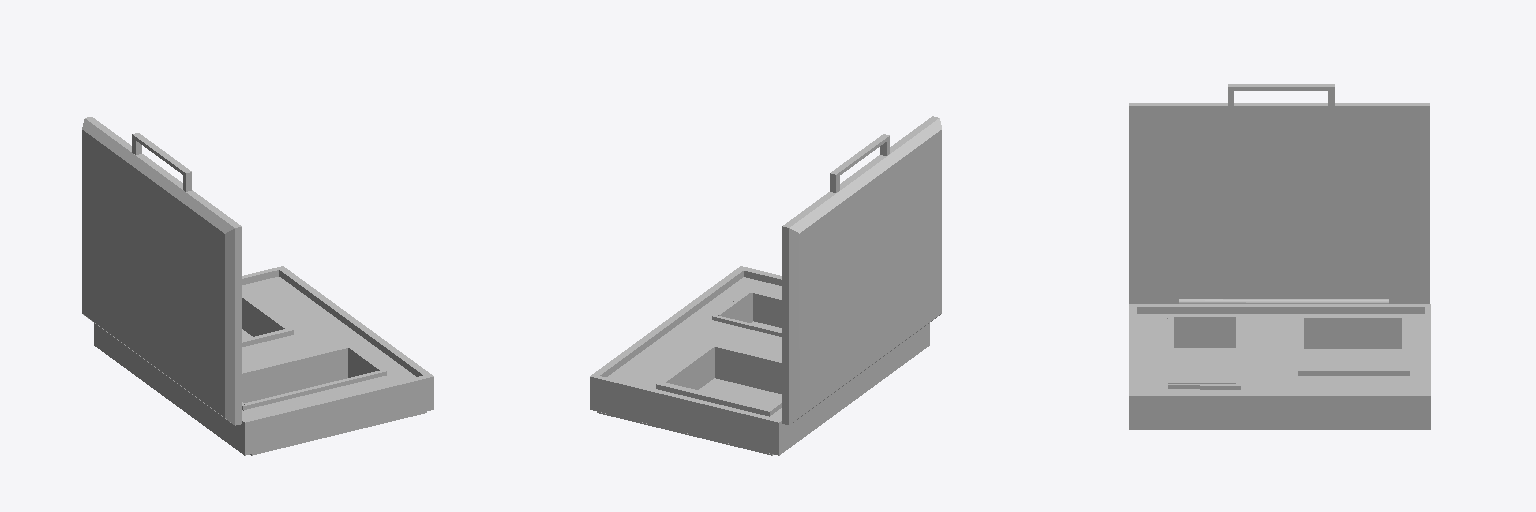
File: briefcase1.obj
The picture shows the model from 3 angles: view 1: azimuth 30°, elevation 25°; view 2: azimuth 150°, elevation 25°; view 3: azimuth 270°, elevation 25°; orthographic projection.
Parts seen in each view (by area): view 1: Cube.001, Cube, Cube.002; view 2: Cube.001, Cube, Cube.002; view 3: Cube.001, Cube, Cube.003, Cylinder.
Part boxes in pixels (left/top/right/bottom): Cube.001: left=82, top=117, right=241, bottom=425; Cube: left=94, top=266, right=433, bottom=455; Cube.002: left=348, top=347, right=382, bottom=377; Cube.001: left=782, top=116, right=941, bottom=424; Cube: left=590, top=266, right=929, bottom=455; Cube.002: left=718, top=290, right=752, bottom=322; Cube.001: left=1129, top=84, right=1429, bottom=303; Cube: left=1129, top=304, right=1430, bottom=429; Cube.003: left=1168, top=316, right=1235, bottom=347; Cylinder: left=1179, top=299, right=1388, bottom=303.
Size of the model in its own units: 2.34 by 2.72 by 2.98.